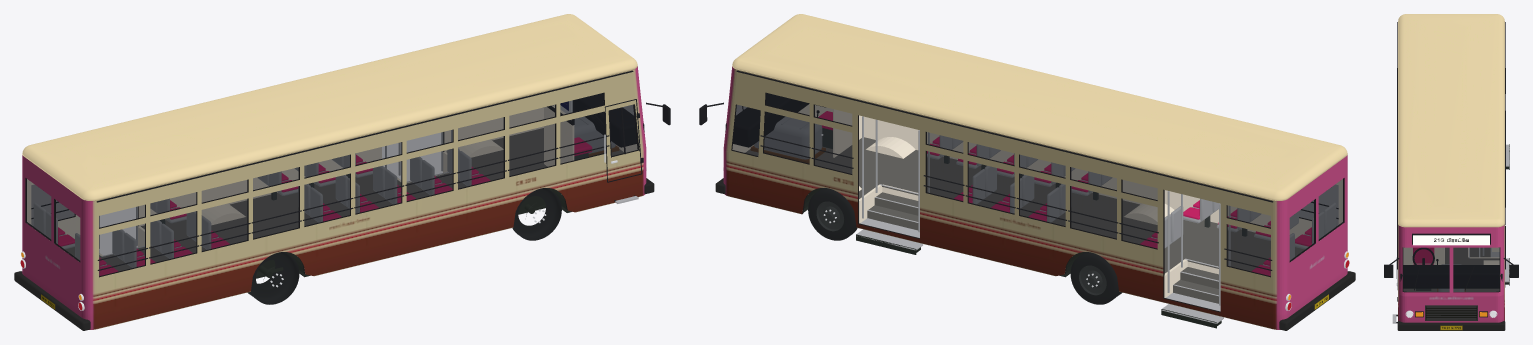
Rendered from pink-vidiyal-2022.glb.
The picture shows the model from 3 angles, left to right: view 1: azimuth 30°, elevation 25°; view 2: azimuth 150°, elevation 25°; view 3: azimuth 270°, elevation 25°; orthographic projection. The views are drawn at different scales.
Parts seen in each view (by area): view 1: pink-vidiyal-2022_Body, pink-vidiyal-2022_Glass, pink-vidiyal-2022_Wheel_Front_L; view 2: pink-vidiyal-2022_Body, pink-vidiyal-2022_Glass, pink-vidiyal-2022_Wheel_Front_L; view 3: pink-vidiyal-2022_Body, pink-vidiyal-2022_Glass.
Boxes of the visible parts, <box> form: pink-vidiyal-2022_Body: <box>14,14,670,330</box>; pink-vidiyal-2022_Glass: <box>26,93,638,276</box>; pink-vidiyal-2022_Wheel_Front_L: <box>247,188,561,304</box>; pink-vidiyal-2022_Body: <box>699,14,1355,330</box>; pink-vidiyal-2022_Glass: <box>731,93,1343,276</box>; pink-vidiyal-2022_Wheel_Front_L: <box>808,188,1122,304</box>; pink-vidiyal-2022_Body: <box>1384,14,1518,330</box>; pink-vidiyal-2022_Glass: <box>1403,247,1499,291</box>.
Bounding box in the file's own units: 12.14 × 3.18 × 3.16.
Materials: 10 (10 with a texture image).
